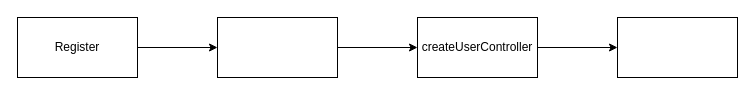
The diagram is 755 pixels wide and 95 high, and some of its shapes have lost their labels. Each missing label, with the box of its shape:
createUserRouter: (216, 16, 338, 78)
createUserService: (616, 16, 738, 78)
